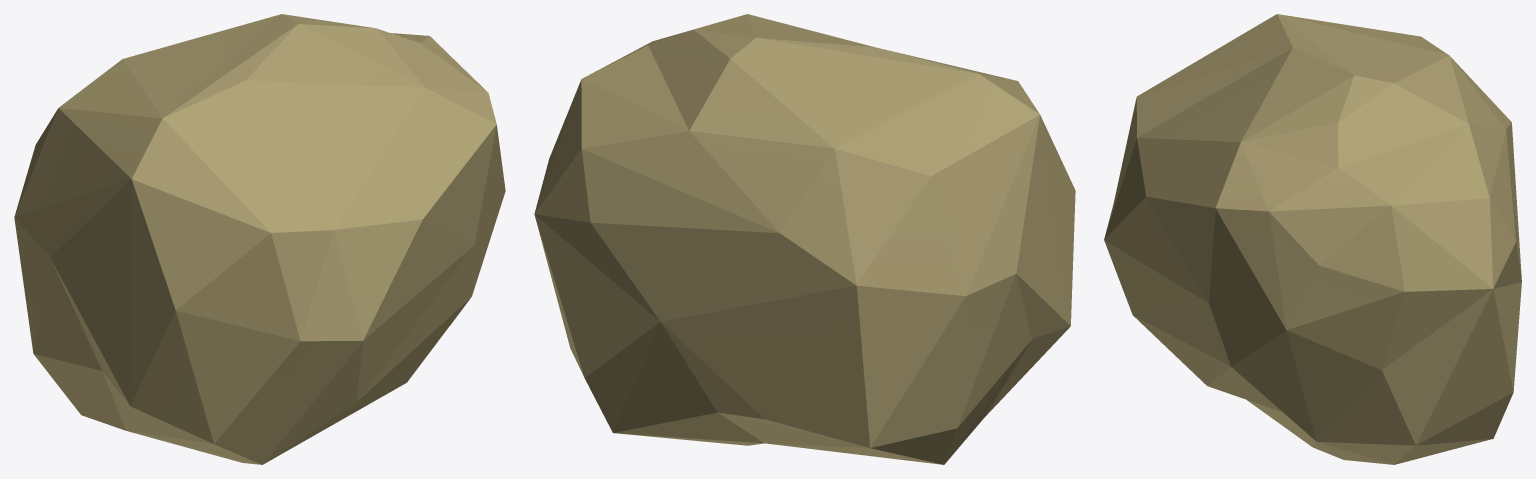
The model's file is SM_small_rock_54.fbx.
The picture shows the model from 3 angles, left to right: view 1: azimuth 30°, elevation 25°; view 2: azimuth 150°, elevation 25°; view 3: azimuth 270°, elevation 25°; orthographic projection. The views are drawn at different scales.
Parts seen in each view (by area): view 1: small_rock_54; view 2: small_rock_54; view 3: small_rock_54.
Boxes of the visible parts, x1=… form: small_rock_54: x1=14, y1=14, x2=505, y2=464; small_rock_54: x1=534, y1=14, x2=1075, y2=464; small_rock_54: x1=1104, y1=14, x2=1521, y2=464.
Size of the model in its own units: 95.89 by 83.59 by 85.29.
